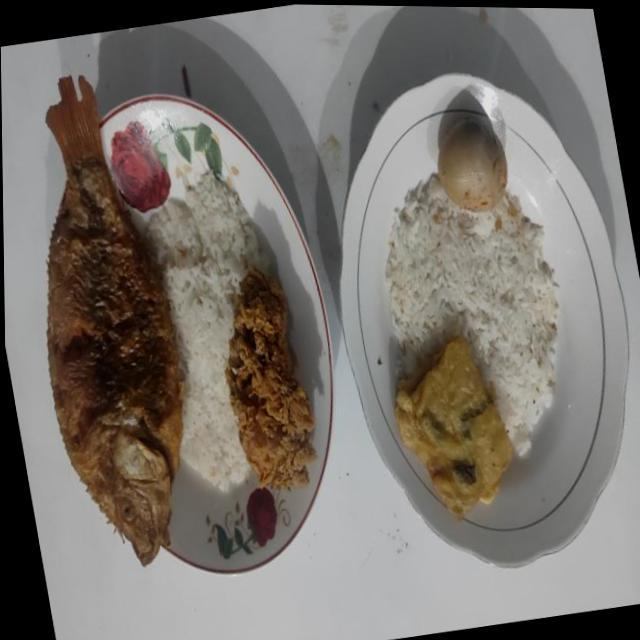ikan_mujair: (46, 77, 183, 566)
nasi_putih: (386, 173, 560, 454), (147, 176, 268, 491)
